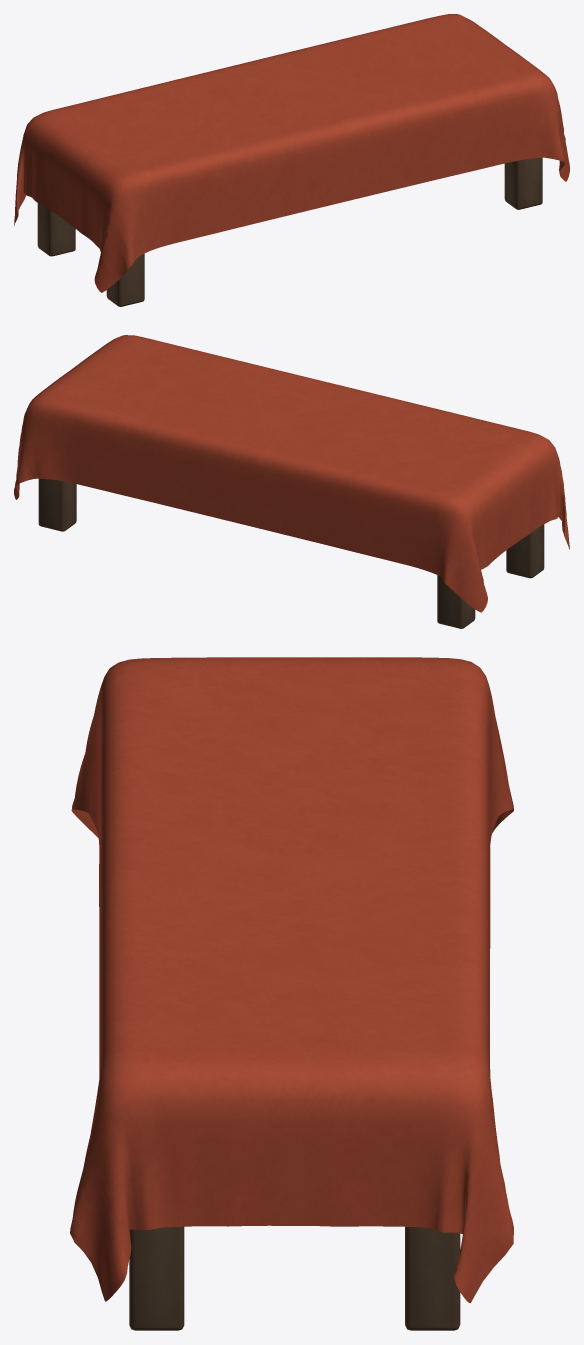
The model's file is Bench.fbx.
The picture shows the model from 3 angles, top to bottom: view 1: azimuth 30°, elevation 25°; view 2: azimuth 150°, elevation 25°; view 3: azimuth 270°, elevation 25°; orthographic projection. The views are drawn at different scales.
Visible parts, largest first — view 1: Bench; view 2: Bench; view 3: Bench.
Boxes of the visible parts, <box> form: Bench: <box>14,14,569,306</box>; Bench: <box>14,335,569,628</box>; Bench: <box>70,657,513,1330</box>.
Size of the model in its own units: 2 by 0.5381 by 0.8162.
